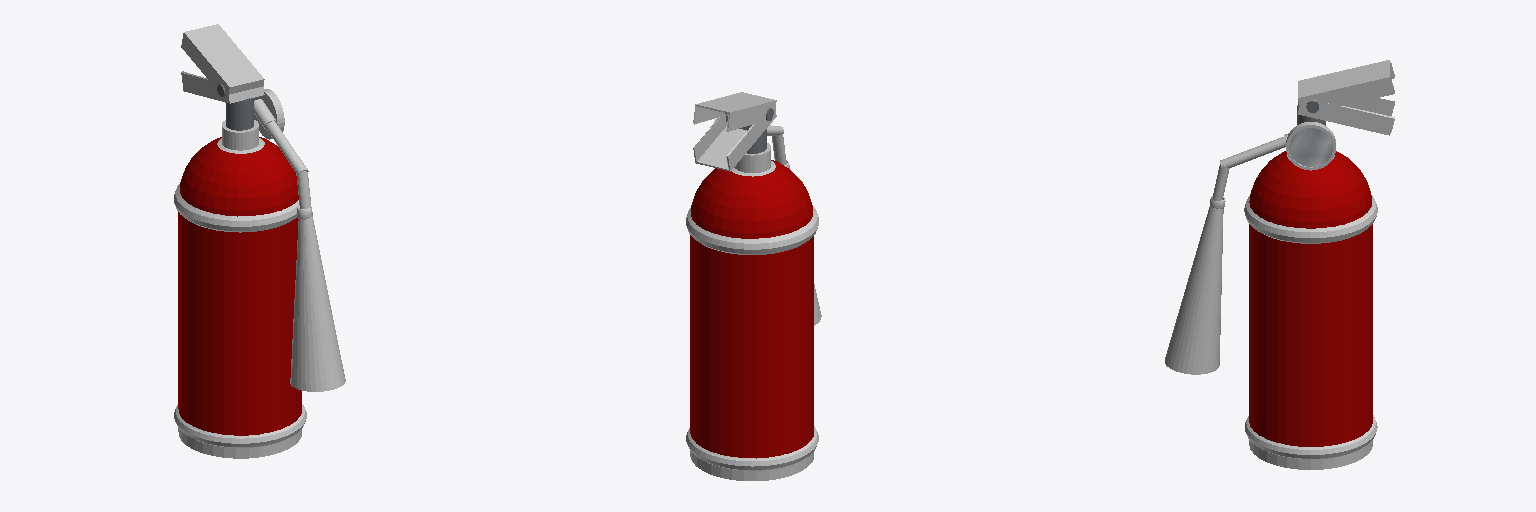
The picture shows the model from 3 angles: view 1: azimuth 30°, elevation 25°; view 2: azimuth 150°, elevation 25°; view 3: azimuth 270°, elevation 25°; orthographic projection.
Parts seen in each view (by area): view 1: Rosca.003, Rosca.002, Rosca; view 2: Rosca.003, Rosca.002; view 3: Rosca.003, Rosca.002, Rosca.001.
Part boxes in pixels (left/top/right/bottom): Rosca.003: left=178, top=137, right=301, bottom=435; Rosca.002: left=174, top=24, right=345, bottom=458; Rosca: left=217, top=84, right=253, bottom=130; Rosca.003: left=690, top=160, right=813, bottom=458; Rosca.002: left=686, top=92, right=821, bottom=480; Rosca.003: left=1249, top=151, right=1372, bottom=446; Rosca.002: left=1165, top=60, right=1394, bottom=469; Rosca.001: left=1289, top=128, right=1332, bottom=166.
Bounding box in the file's own units: 2.15 × 6.67 × 3.72.
Materials: 3 (2 with a texture image).